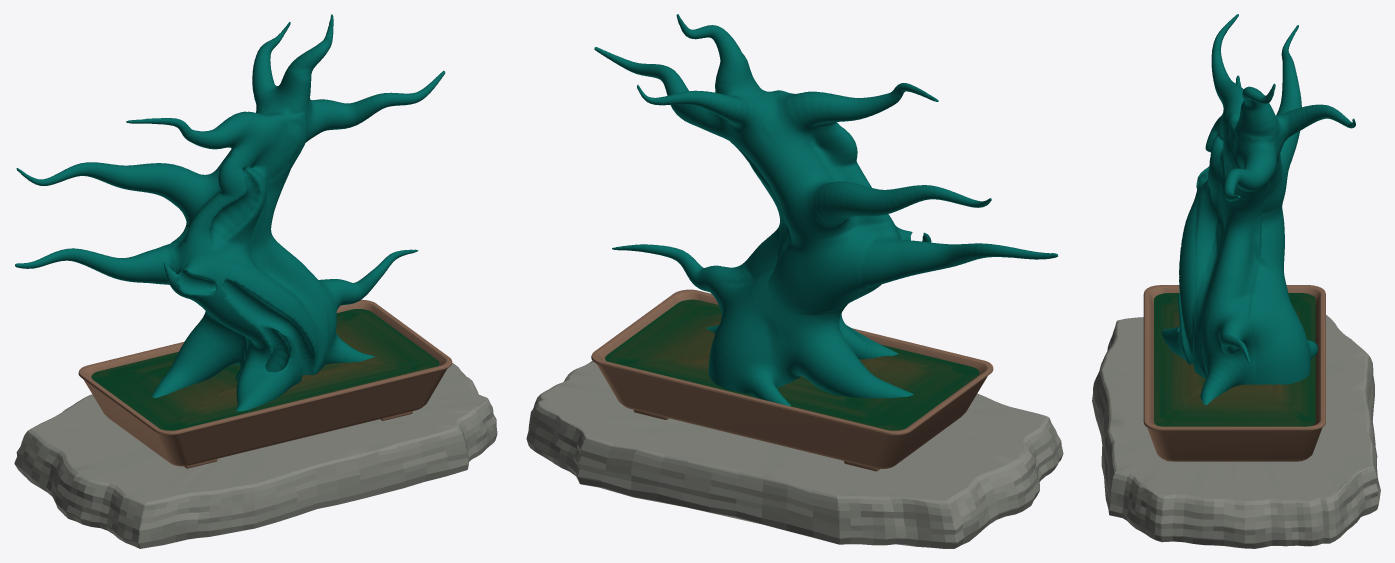
File: hero-v04.glb
The picture shows the model from 3 angles, left to right: view 1: azimuth 30°, elevation 25°; view 2: azimuth 150°, elevation 25°; view 3: azimuth 270°, elevation 25°; orthographic projection. The views are drawn at different scales.
Parts seen in each view (by area): view 1: Continuous aged trunk and primary branches, Low split natural bedding stone, Shallow unglazed pot, Continuous planted soil; view 2: Continuous aged trunk and primary branches, Low split natural bedding stone, Shallow unglazed pot, Continuous planted soil; view 3: Low split natural bedding stone, Continuous aged trunk and primary branches, Continuous planted soil, Shallow unglazed pot.
Part boxes in pixels (x1=…): Continuous aged trunk and primary branches: x1=15, y1=14, x2=445, y2=411; Low split natural bedding stone: x1=14, y1=363, x2=497, y2=548; Shallow unglazed pot: x1=78, y1=299, x2=452, y2=466; Continuous planted soil: x1=91, y1=309, x2=439, y2=430; Continuous aged trunk and primary branches: x1=594, y1=14, x2=1057, y2=406; Low split natural bedding stone: x1=526, y1=360, x2=1063, y2=548; Shallow unglazed pot: x1=591, y1=289, x2=993, y2=468; Continuous planted soil: x1=605, y1=299, x2=979, y2=430; Low split natural bedding stone: x1=1092, y1=315, x2=1380, y2=548; Continuous aged trunk and primary branches: x1=1162, y1=14, x2=1355, y2=404; Continuous planted soil: x1=1154, y1=293, x2=1315, y2=426; Shallow unglazed pot: x1=1143, y1=285, x2=1325, y2=461.
Size of the model in its own units: 2.48 by 2.13 by 1.36.
